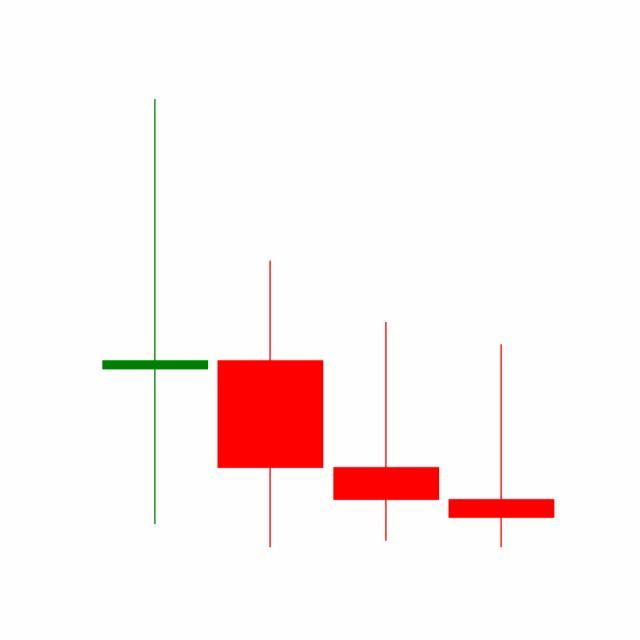Spinning Top: (329, 321, 445, 545)
